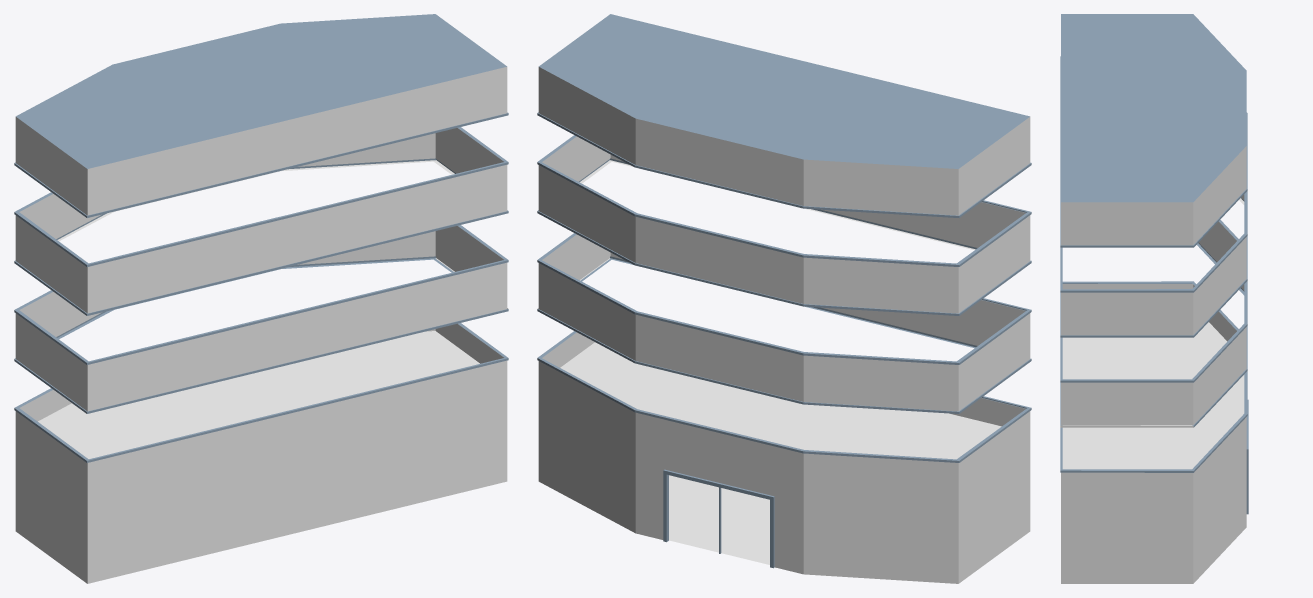
The model's file is Bld_O_high_L1_C.fbx.
3 views of the same model, side by side, from view 1: azimuth 30°, elevation 25°; view 2: azimuth 150°, elevation 25°; view 3: azimuth 270°, elevation 25° (orthographic). The views are drawn at different scales.
Visible parts, largest first — view 1: Bld_O_high_L1_C_LOD0; view 2: Bld_O_high_L1_C_LOD0; view 3: Bld_O_high_L1_C_LOD0.
Part boxes in pixels (x1,y1,x2,y2): Bld_O_high_L1_C_LOD0: (14, 14, 508, 583); Bld_O_high_L1_C_LOD0: (537, 14, 1031, 583); Bld_O_high_L1_C_LOD0: (1060, 14, 1248, 583).
Size of what is drawn, in the model's own units: 1380 by 1431 by 733.
Materials: 1 (1 with a texture image).
